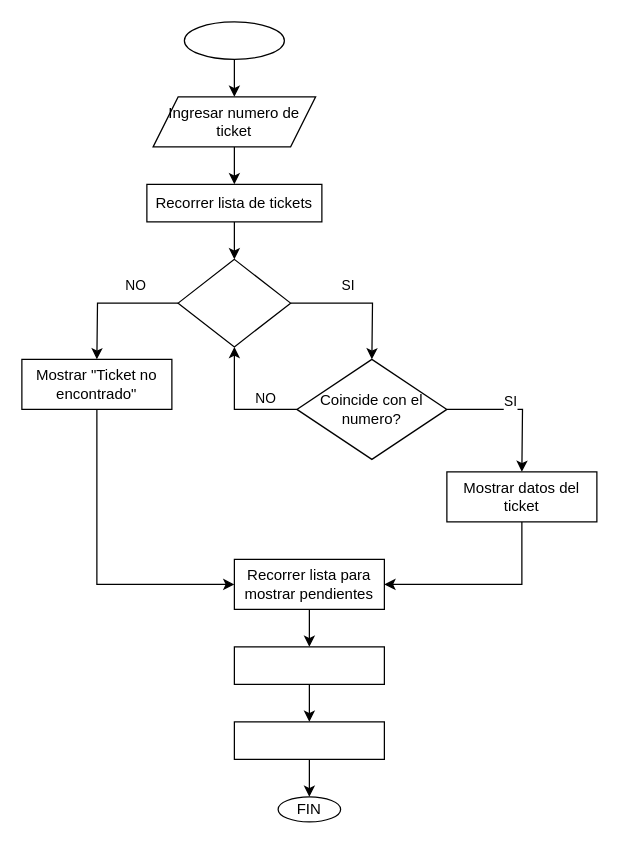
This 619x844 diagram has some shape labels left out. The centre of each missing label's shape, as x and y in pixels:
"Contar tickets pendientes" goes at (308,665).
"Hay otro ticket?" goes at (234,302).
"INICIO" goes at (233,40).
"Mostrar cantidad" goes at (308,740).
